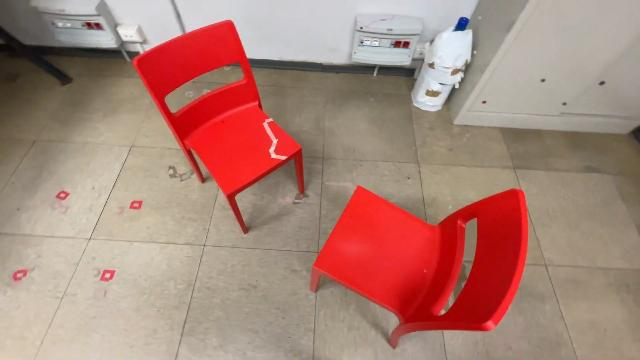Chair: (129, 17, 307, 237), (306, 183, 532, 353)
